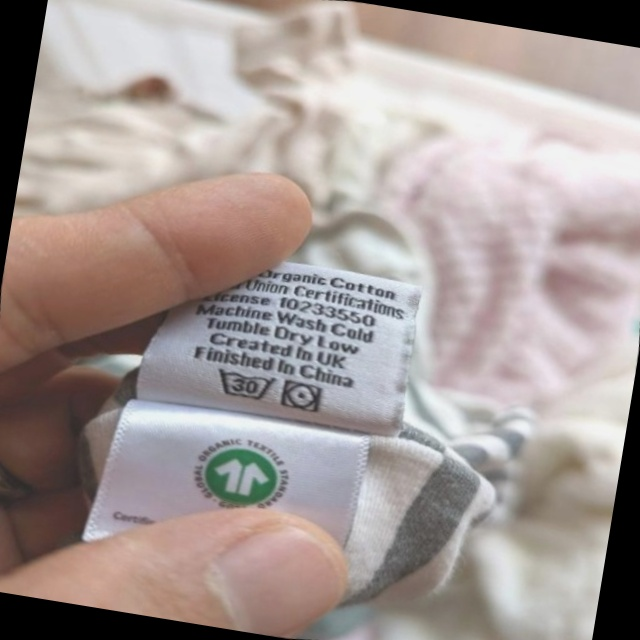30C: (206, 356, 283, 413)
tumble_dry_low: (273, 371, 330, 422)
